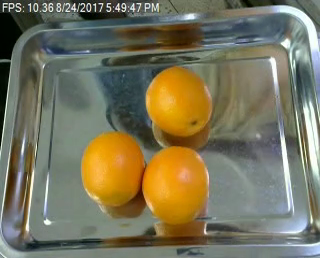Orange: (141, 144, 210, 223), (79, 131, 144, 207), (145, 66, 213, 138)
